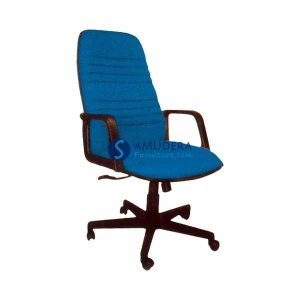chair: (77, 29, 224, 271)
